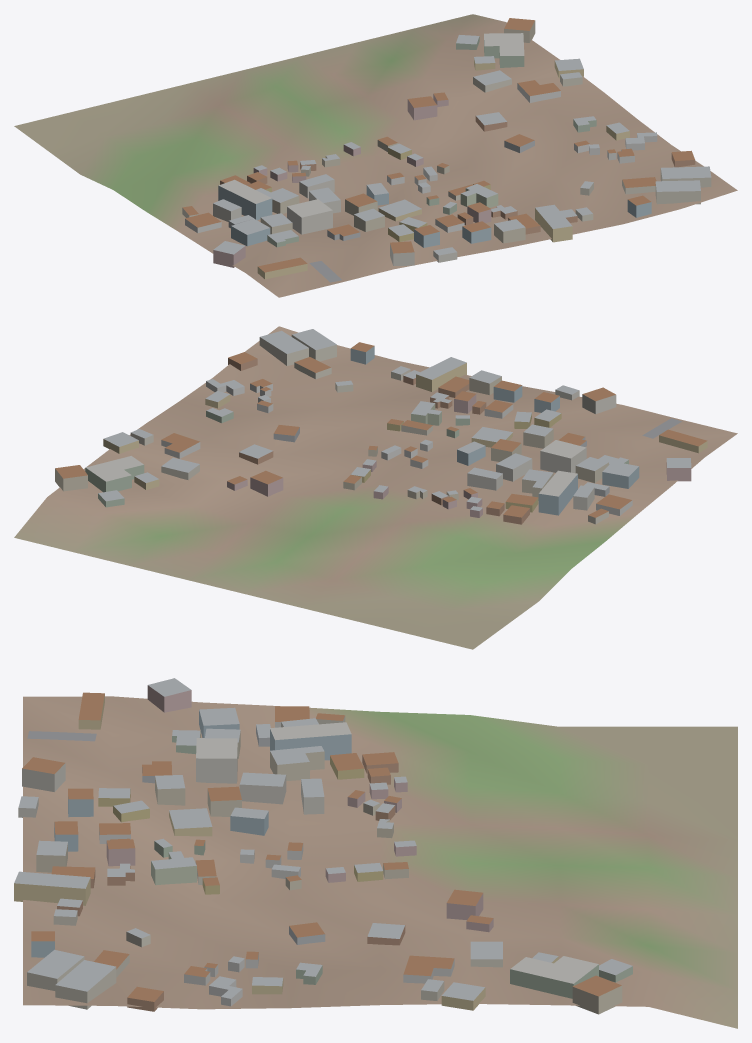
3 renders of one model, top to bottom at view 1: azimuth 30°, elevation 25°; view 2: azimuth 150°, elevation 25°; view 3: azimuth 270°, elevation 25°, orthographic. The views are drawn at different scales.
Visible parts, largest first — view 1: Lo; view 2: Lo; view 3: Lo.
Boxes of the visible parts, <box> form: Lo: <box>14,14,737,297</box>; Lo: <box>14,326,737,649</box>; Lo: <box>14,678,737,1028</box>.
Size of the model in its own units: 267 by 18.68 by 259.
